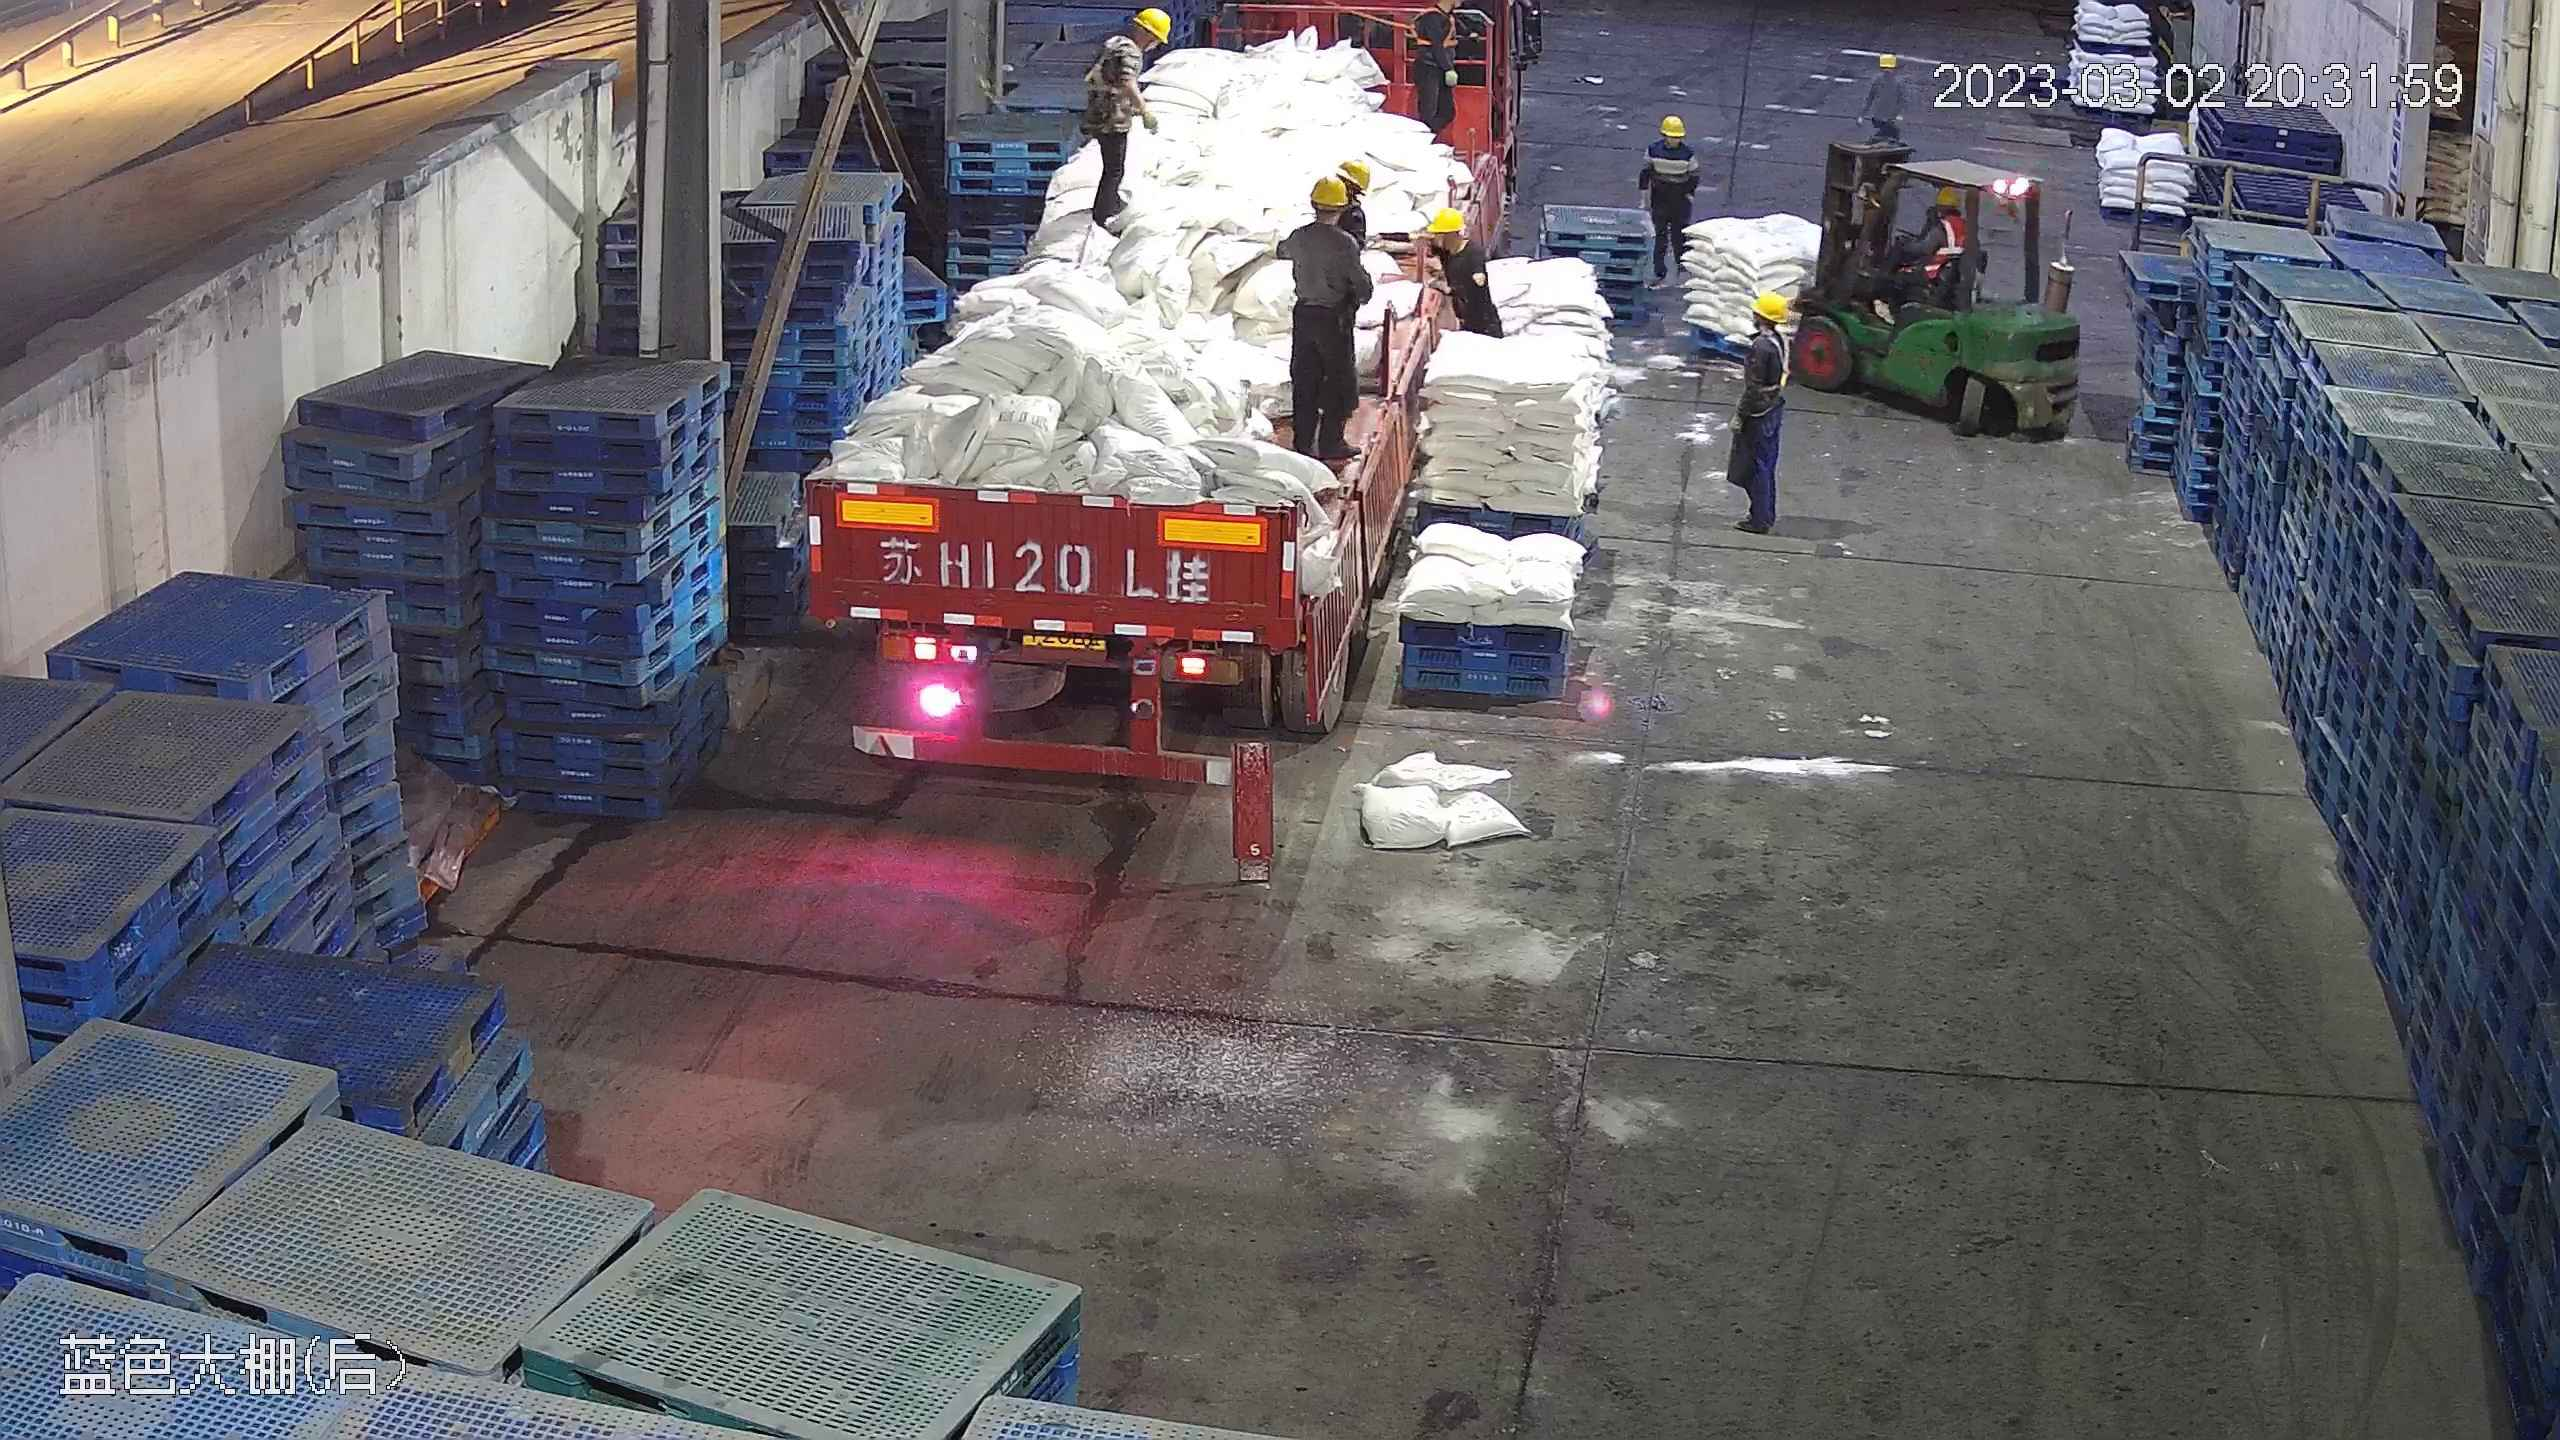belt: (1084, 38, 1140, 100), (1405, 6, 1463, 49), (1758, 333, 1794, 394), (1430, 248, 1473, 289)
head: (1285, 168, 1368, 260), (1417, 205, 1487, 283), (1093, 8, 1168, 79), (1738, 290, 1790, 370), (1644, 113, 1696, 169), (1922, 182, 1966, 236), (1866, 52, 1908, 103)
helmet: (1316, 163, 1366, 202), (1132, 7, 1172, 44), (1425, 206, 1467, 237), (1332, 156, 1372, 189), (1749, 291, 1790, 320), (1931, 182, 1960, 209), (1658, 113, 1687, 135), (1875, 52, 1897, 70)
people: (1252, 166, 1375, 459), (1078, 7, 1169, 226), (1715, 286, 1790, 538), (1876, 181, 1966, 306), (1640, 111, 1701, 286)
truck: (800, 12, 1491, 781)
